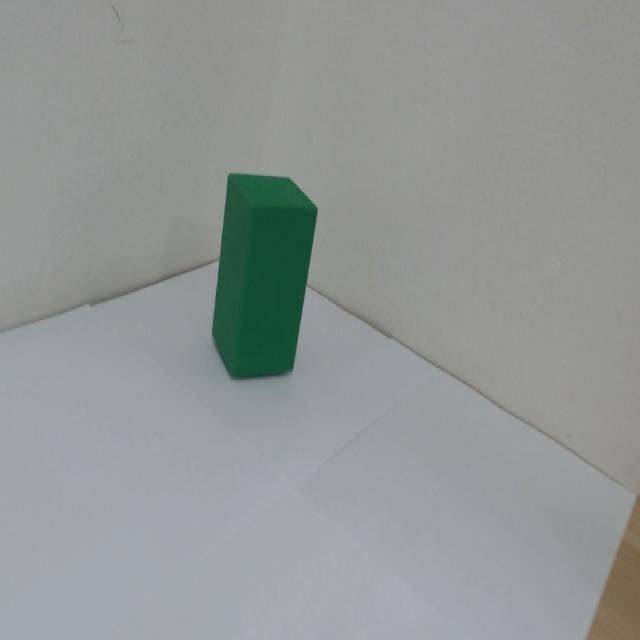cube: (185, 95, 332, 474)
